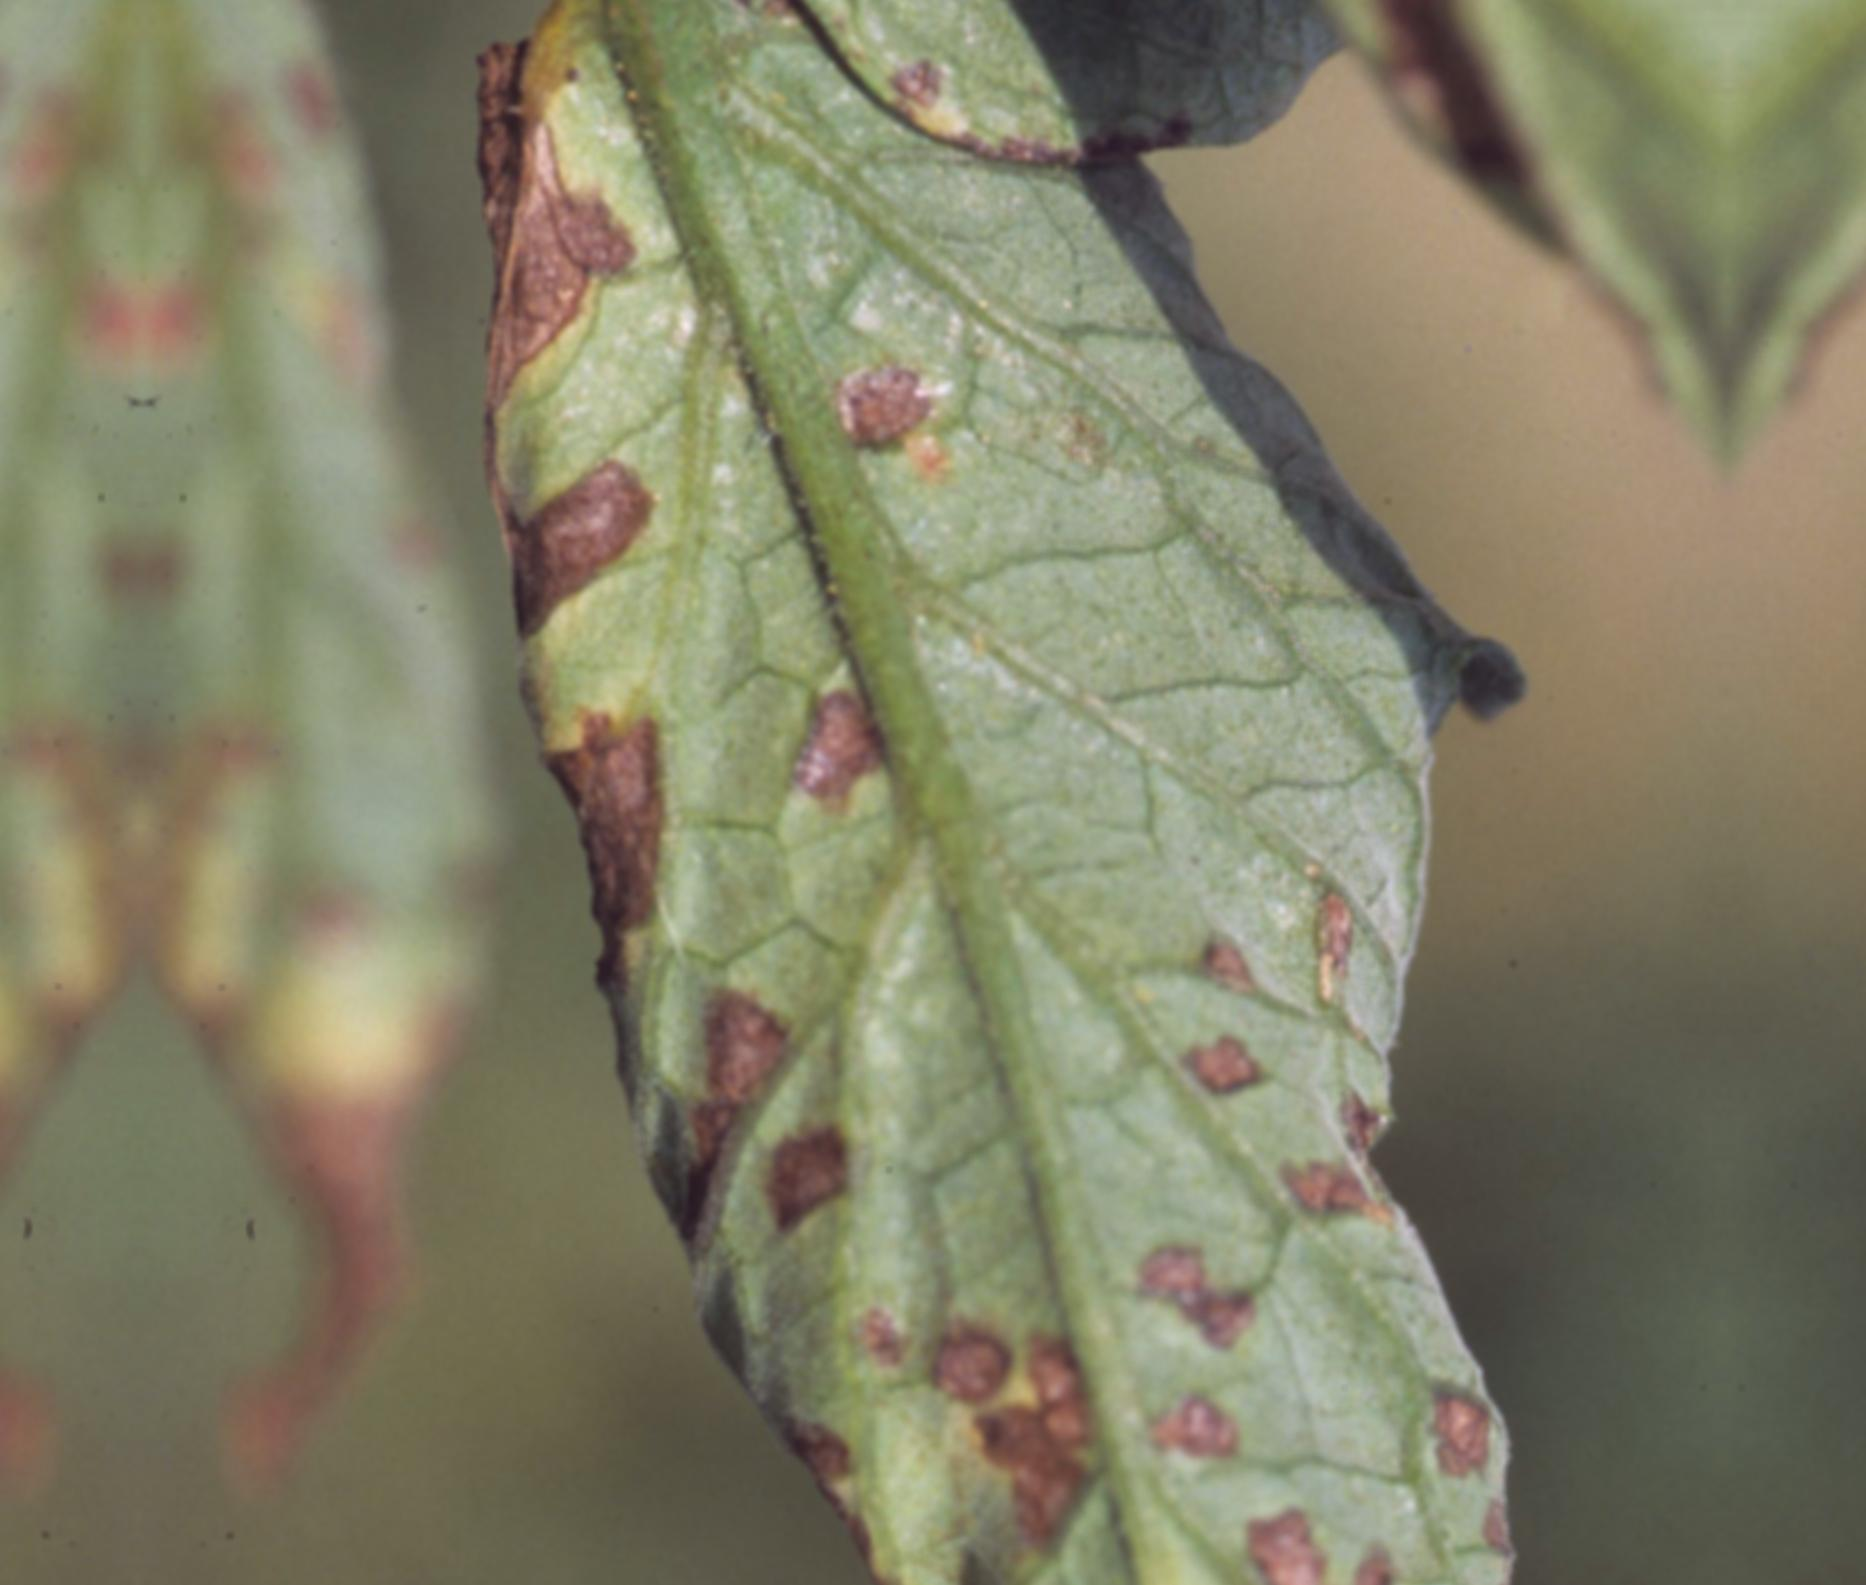Tomato leaf bacterial spot: (366, 0, 1632, 1585)
